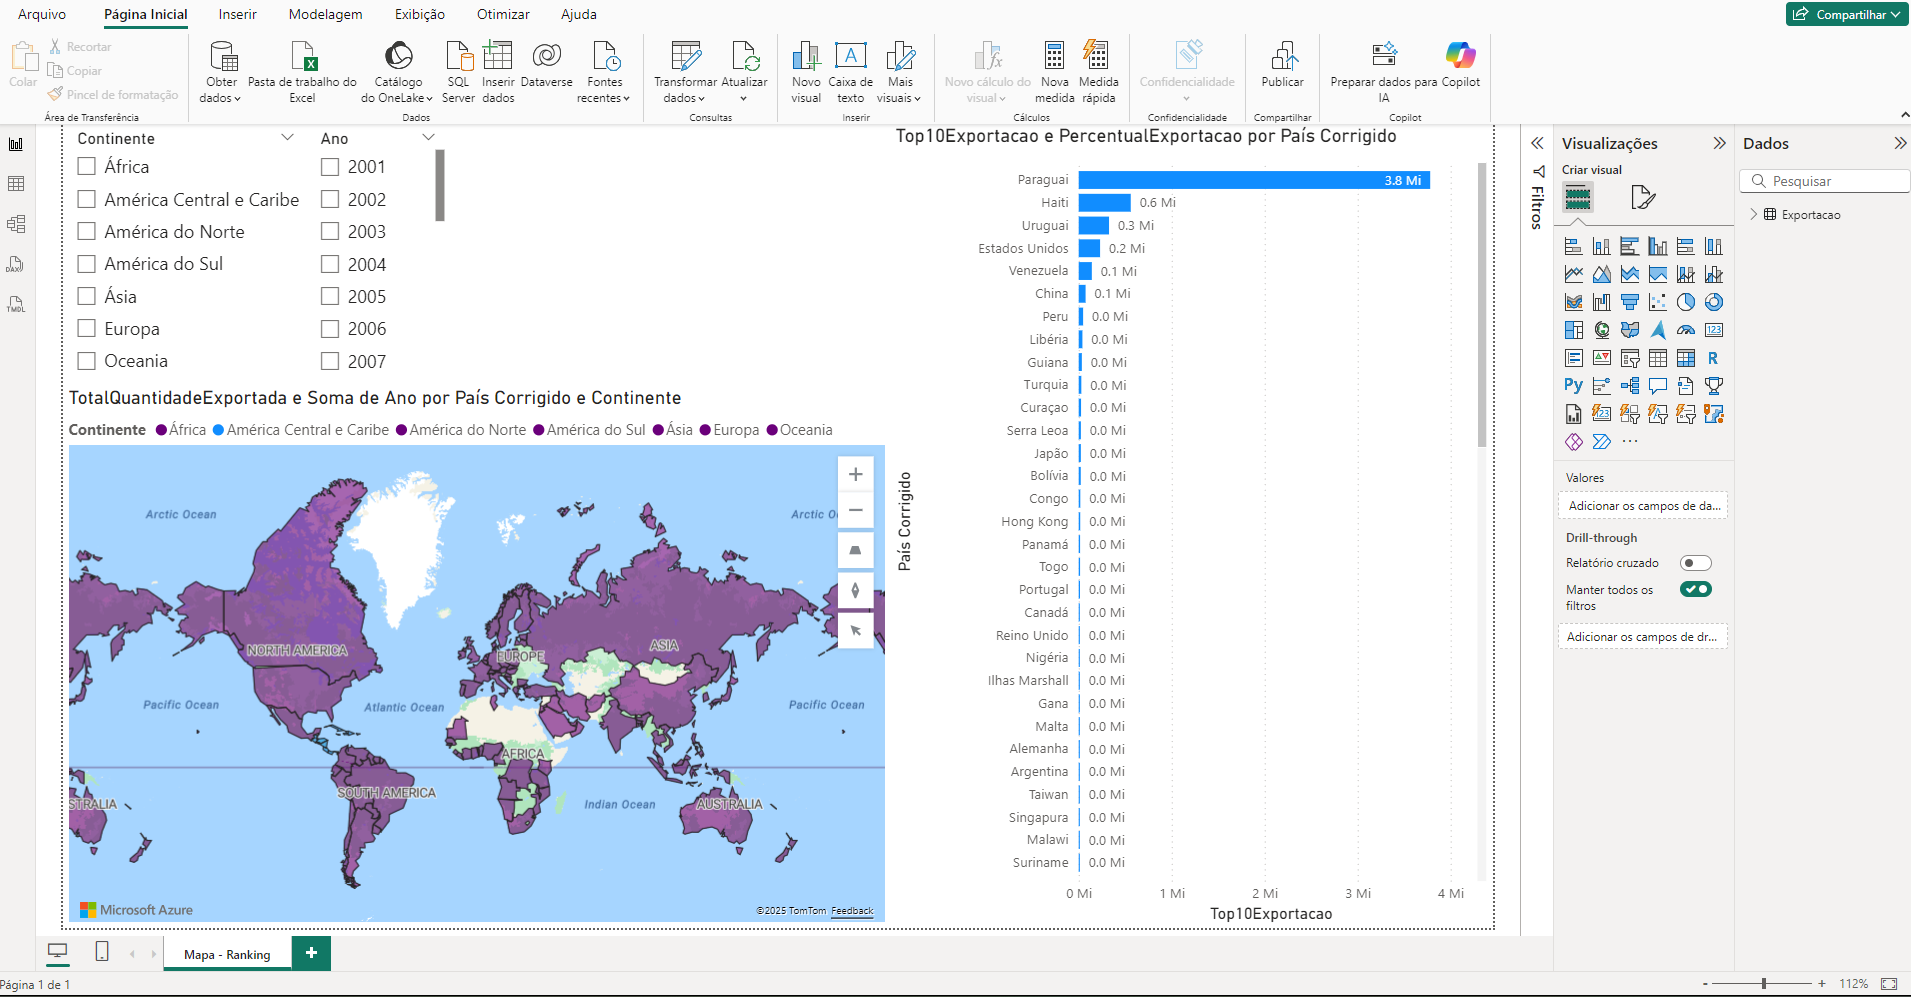

What the dashboard file says about the page in this screenshot:
{"tool":"powerbi","page":{"name":"Mapa - Ranking","canvas":[1280,720],"ordinal":0},"visuals":[{"type":"azureMap","fields":{"Category":["Exportacao.País Corrigido"],"Series":["Exportacao.Continente"]},"box":[0,234.6,740.6,485.4],"z":0},{"type":"clusteredBarChart","fields":{"Category":["Exportacao.País Corrigido"],"Y":["Exportacao.Top10Exportacao"]},"box":[740.6,0,539.1,720],"z":1000},{"type":"slicer","fields":{"Values":["Exportacao.Ano"]},"box":[217.6,0,129,234.6],"z":1001},{"type":"slicer","fields":{"Values":["Exportacao.Continente"]},"box":[0,0,220.3,234.6],"z":1002}]}

Visuals, with their boxes on the page's 1280x720 design canvas (x1, y1, x2, y2). These are canvas units, not pixel positions in the 1911x997 screenshot, which may show the page scaled, cropped or inside an application window:
azureMap - Exportacao.País Corrigido x Exportacao.Continente: bbox(0, 235, 741, 720)
clusteredBarChart - Exportacao.País Corrigido x Exportacao.Top10Exportacao: bbox(741, 0, 1280, 720)
slicer - Exportacao.Ano: bbox(218, 0, 347, 235)
slicer - Exportacao.Continente: bbox(0, 0, 220, 235)
